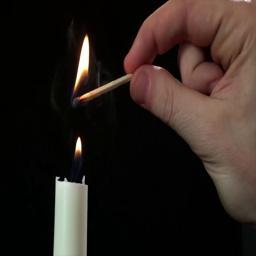fire: (74, 35, 89, 90), (75, 136, 82, 156)
